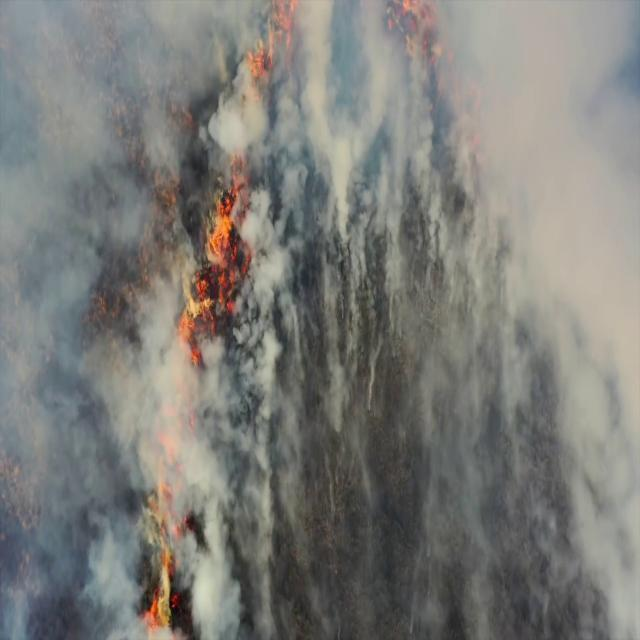Fire: (149, 422, 174, 623), (242, 0, 299, 85), (201, 185, 239, 279), (177, 283, 211, 358)
Smoke: (488, 14, 640, 245), (585, 101, 640, 640), (0, 0, 103, 263), (192, 464, 244, 640)
